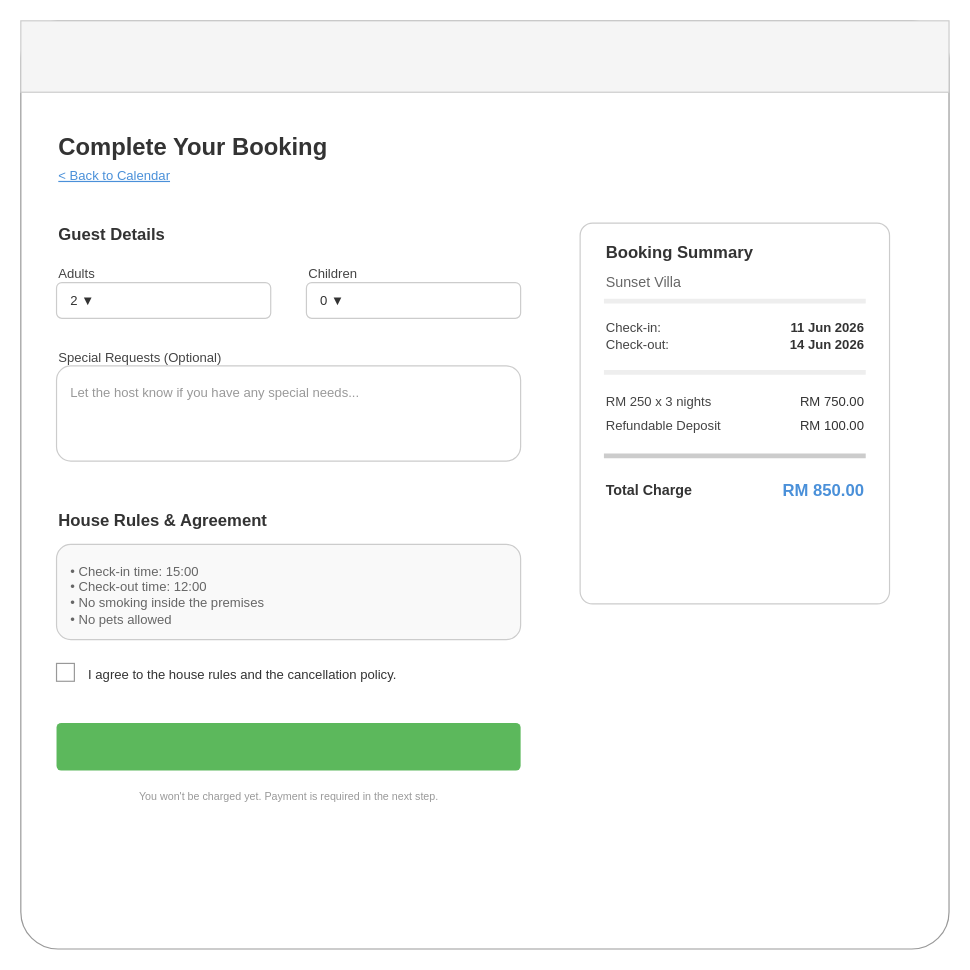
Image size: 970x970. Some labels were removed from this diagram. Here are the shapes that lost their labels. From the top down, the centre of each, then its label:
At (x=484, y=56): "HomeLodge".
At (x=288, y=746): "Confirm & Submit Booking".
